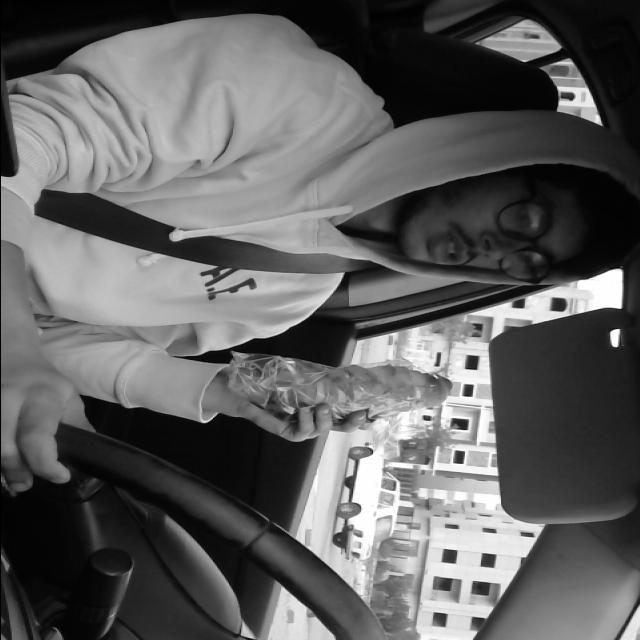eating: (278, 361, 452, 422)
